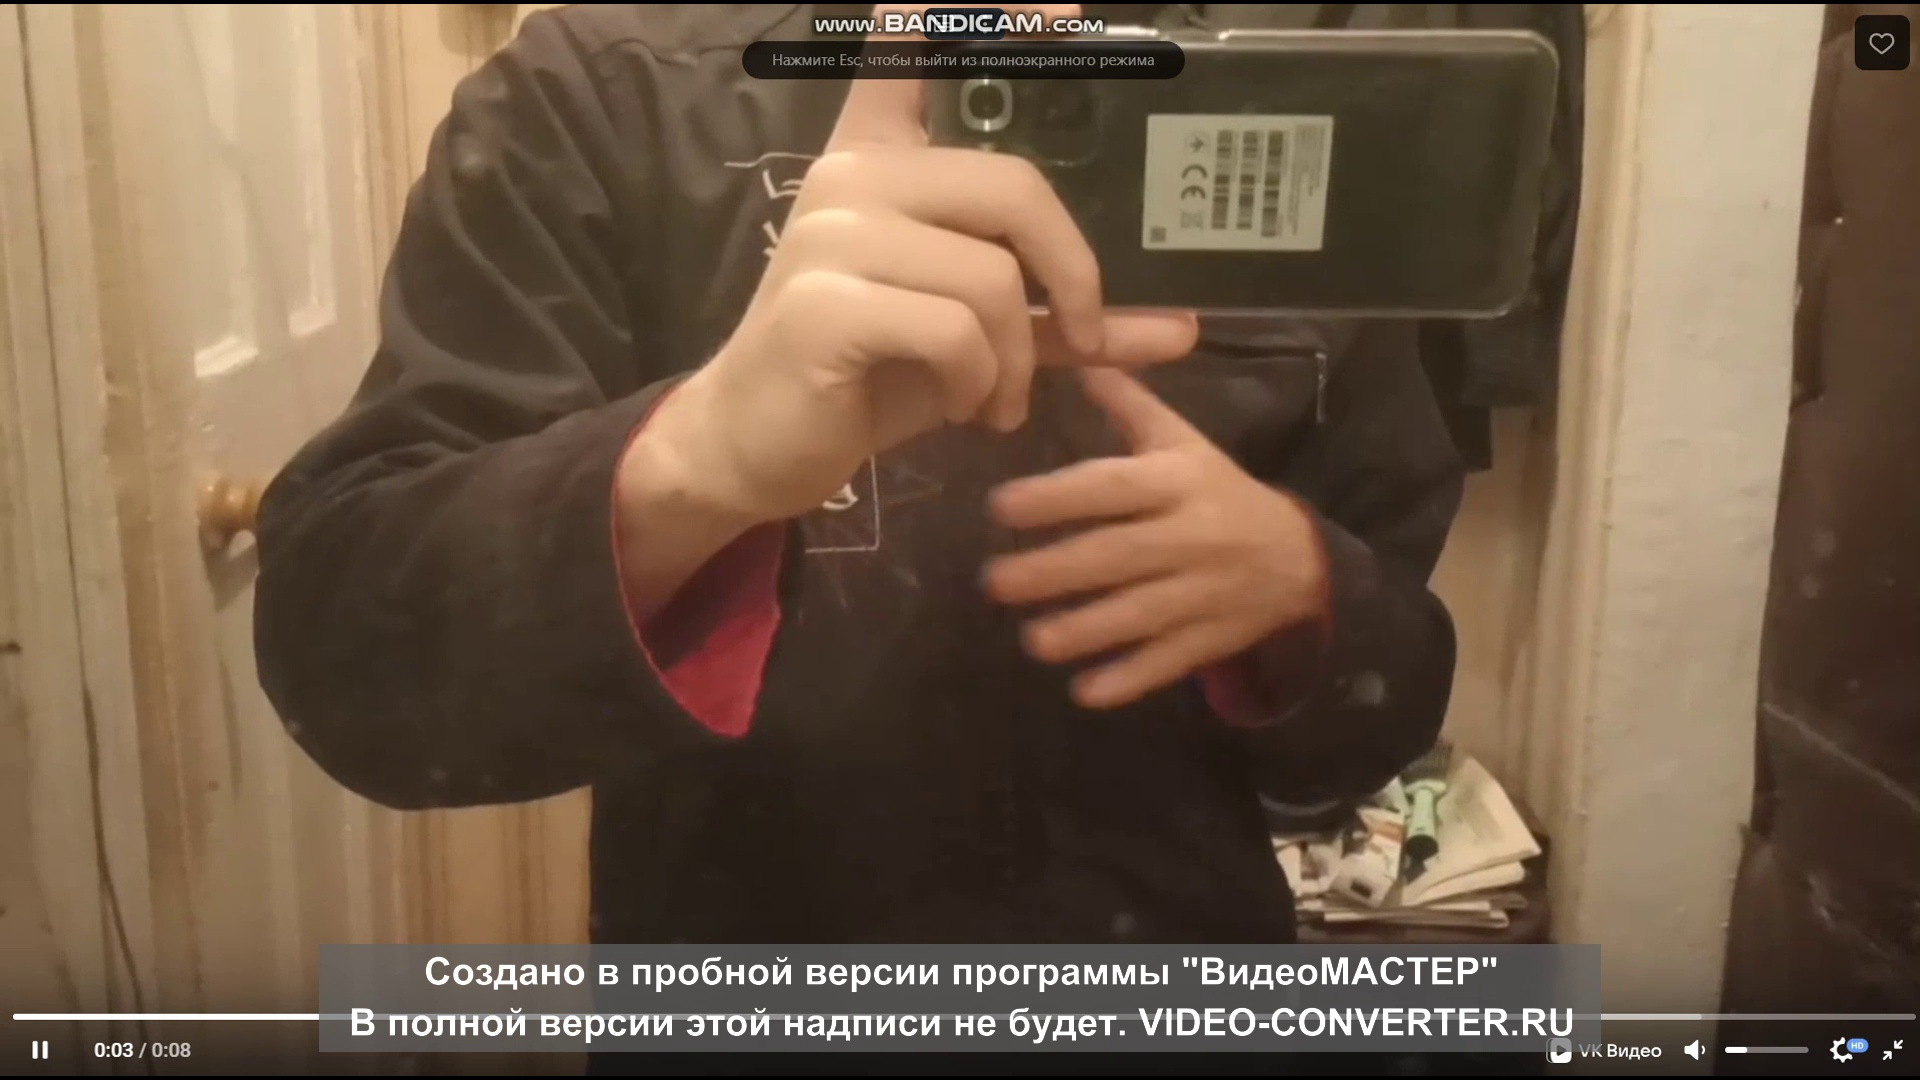Кисть: (984, 356, 1308, 707)
